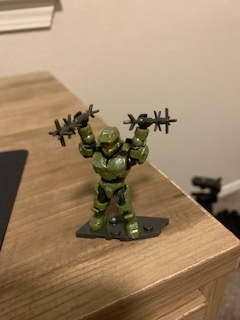chief: (73, 110, 152, 241)
spartan: (71, 108, 150, 239)
up: (72, 109, 152, 182)
